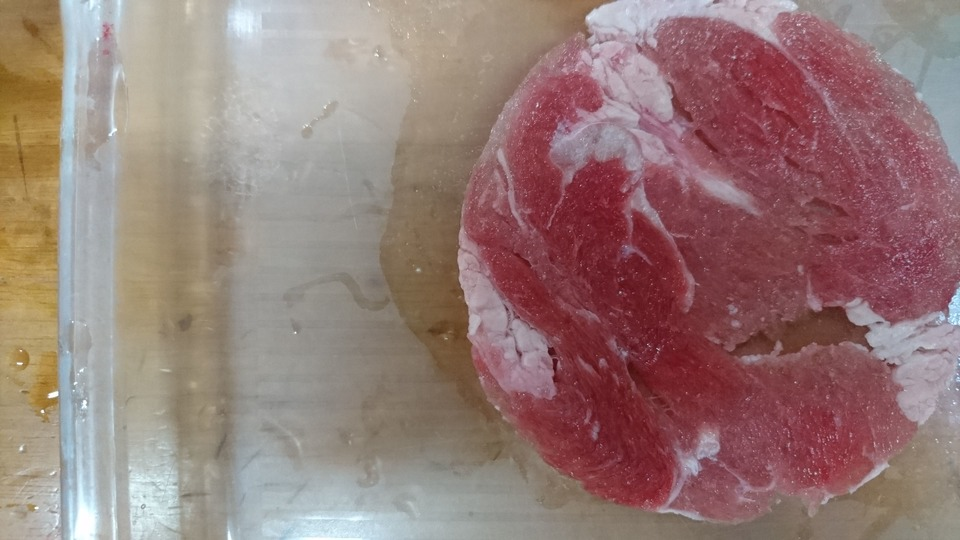restructured meat: (454, 1, 960, 498)
